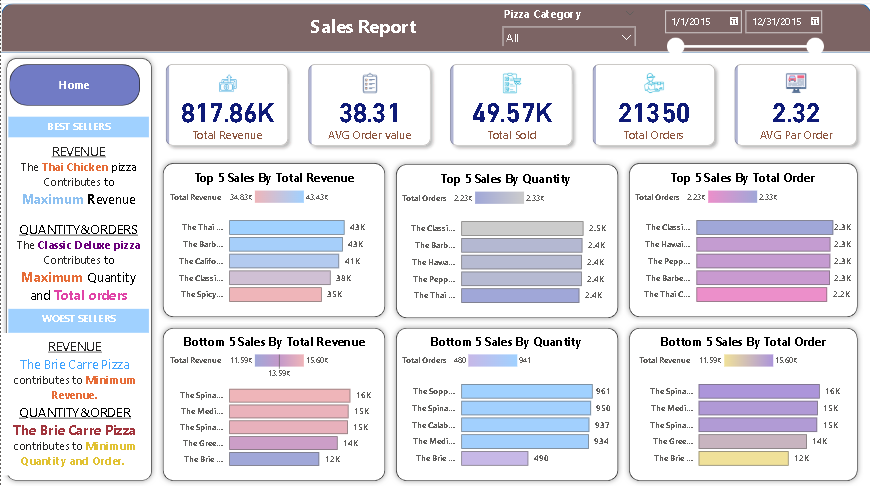

This screenshot's page, from the dashboard's own definition file:
{"tool":"powerbi","page":{"name":"Best/Worst Sellers","canvas":[1280,720],"ordinal":1},"visuals":[{"type":"cardVisual","fields":{"Data":["SalesPiza.Total Revenue","SalesPiza.AVG Order value","SalesPiza.Total Sold","SalesPiza.Total Orders","SalesPiza.AVG Par Order"]},"box":[225.4,81.8,1054.4,154.4],"z":1000},{"type":"shape","box":[0,9.3,1279.8,72.6],"z":2000},{"type":"textbox","box":[364.3,18.5,336.6,46.3],"z":3000},{"type":"shape","box":[230,478.6,342.7,240.8],"z":4000},{"type":"shape","box":[915.5,478.6,352,240.8],"z":5000},{"type":"shape","box":[572.8,478.6,342.7,240.8],"z":6000},{"type":"shape","box":[0,81.8,230,637.6],"z":7000},{"type":"textbox","box":[10.8,176,206.9,30.9],"z":8000},{"type":"textbox","box":[10.8,206.9,206.9,251.6],"z":9000},{"type":"textbox","box":[10.8,458.5,206.9,35.5],"z":10000},{"type":"textbox","box":[0,494,217.7,210],"z":11000},{"type":"slicer","fields":{"Values":["SalesPiza.pizza_category"]},"box":[727.1,9.3,216.1,63.3],"z":12000},{"type":"slicer","fields":{"Values":["SalesPiza.order_date"]},"box":[963.3,9.3,254.7,89.5],"z":13000},{"type":"shape","box":[230,236.2,342.7,242.4],"z":14000},{"type":"shape","box":[572.8,237.7,342.7,242.4],"z":15000},{"type":"shape","box":[915.5,236.2,352,242.4],"z":16000},{"type":"barChart","title":"Top 5 Sales By Total Revenue","fields":{"Category":["SalesPiza.pizza_name"],"Y":["SalesPiza.Total Revenue"]},"box":[243.9,253.2,316.5,210],"z":17000},{"type":"barChart","title":"Bottom 5 Sales By Total Revenue","fields":{"Category":["SalesPiza.pizza_name"],"Y":["SalesPiza.Total Revenue"]},"box":[243.9,494,316.5,210],"z":18000},{"type":"barChart","title":"Top 5 Sales By Quantity","fields":{"Category":["SalesPiza.pizza_name"],"Y":["SalesPiza.Total Sold"]},"box":[585.1,254.7,316.5,210],"z":19000},{"type":"barChart","title":"Bottom 5 Sales By Quantity","fields":{"Category":["SalesPiza.pizza_name"],"Y":["SalesPiza.Total Sold"]},"box":[585.1,494,316.5,210],"z":20000},{"type":"barChart","title":"Top 5 Sales By Total Order","fields":{"Category":["SalesPiza.pizza_name"],"Y":["SalesPiza.Total Orders"]},"box":[927.8,253.2,327.3,210],"z":21000},{"type":"barChart","title":"Bottom 5 Sales By Total Order","fields":{"Category":["SalesPiza.pizza_name"],"Y":["SalesPiza.Total Revenue"]},"box":[934,494,316.5,210],"z":22000},{"type":"pageNavigator","box":[12.4,98.8,193,61.8],"z":23000}]}

Visuals, with their boxes in screenshot pixels (x1, y1, x2, y2), scaled from the page's 1280x720 canvas onto the 870x486 screenshot:
cardVisual - SalesPiza.Total Revenue x SalesPiza.AVG Order value: rect(153, 55, 869, 159)
shape: rect(0, 6, 869, 55)
textbox: rect(248, 12, 476, 44)
shape: rect(156, 323, 389, 485)
shape: rect(622, 323, 862, 485)
shape: rect(389, 323, 622, 485)
shape: rect(0, 55, 156, 485)
textbox: rect(7, 119, 148, 140)
textbox: rect(7, 140, 148, 309)
textbox: rect(7, 309, 148, 333)
textbox: rect(0, 333, 148, 475)
slicer - SalesPiza.pizza_category: rect(494, 6, 641, 49)
slicer - SalesPiza.order_date: rect(655, 6, 828, 67)
shape: rect(156, 159, 389, 323)
shape: rect(389, 160, 622, 324)
shape: rect(622, 159, 862, 323)
"Top 5 Sales By Total Revenue" barChart: rect(166, 171, 381, 313)
"Bottom 5 Sales By Total Revenue" barChart: rect(166, 333, 381, 475)
"Top 5 Sales By Quantity" barChart: rect(398, 172, 613, 314)
"Bottom 5 Sales By Quantity" barChart: rect(398, 333, 613, 475)
"Top 5 Sales By Total Order" barChart: rect(631, 171, 853, 313)
"Bottom 5 Sales By Total Order" barChart: rect(635, 333, 850, 475)
pageNavigator: rect(8, 67, 140, 108)
